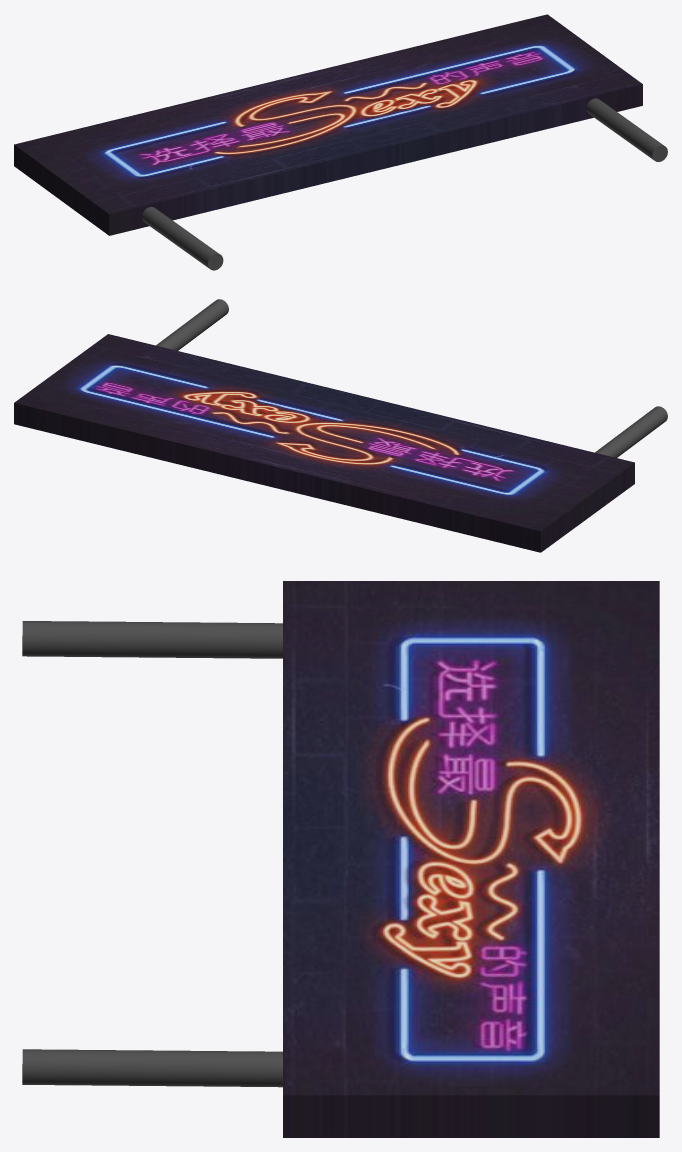
Rendered from saine.fbx.
3 renders of one model, top to bottom at view 1: azimuth 30°, elevation 25°; view 2: azimuth 150°, elevation 25°; view 3: azimuth 270°, elevation 25°, orthographic. The views are drawn at different scales.
Parts seen in each view (by area): view 1: Box001; view 2: Box001; view 3: Box001.
Boxes of the visible parts, box(x1,y1,x2,y2) form: Box001: box(14, 14, 667, 270); Box001: box(14, 299, 667, 552); Box001: box(22, 581, 659, 1137).
Bounding box in the file's own units: 47.64 × 1.84 × 24.95.
Materials: 2 (1 with a texture image).
